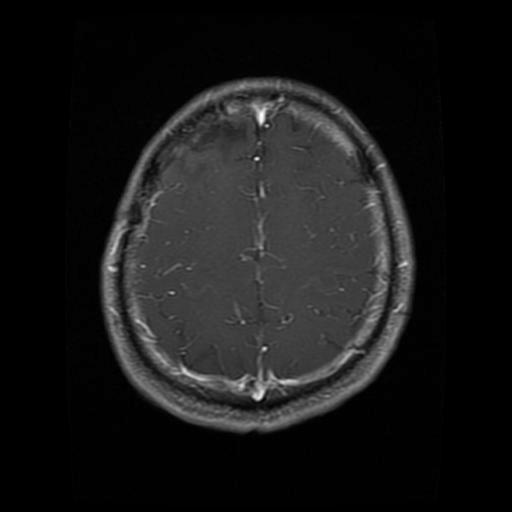Tumour-Glioma: (188, 112, 260, 163)
